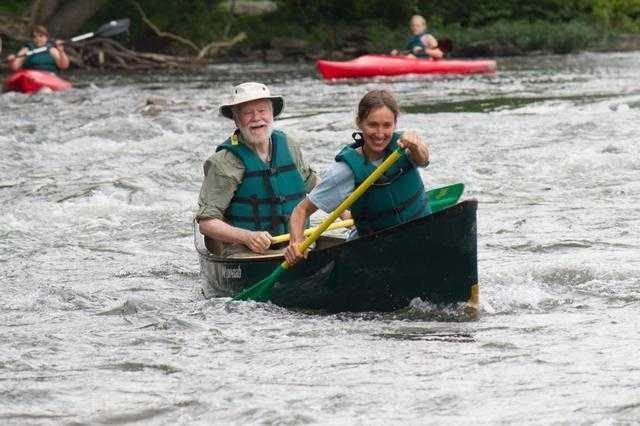kayak: (193, 184, 480, 316), (318, 35, 496, 76), (316, 56, 498, 80)
